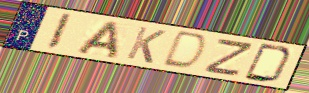A: (73, 19, 119, 61)
D: (241, 41, 295, 84), (159, 30, 210, 72)
I: (44, 11, 75, 51)
K: (123, 25, 168, 65)
Z: (200, 38, 257, 79)
